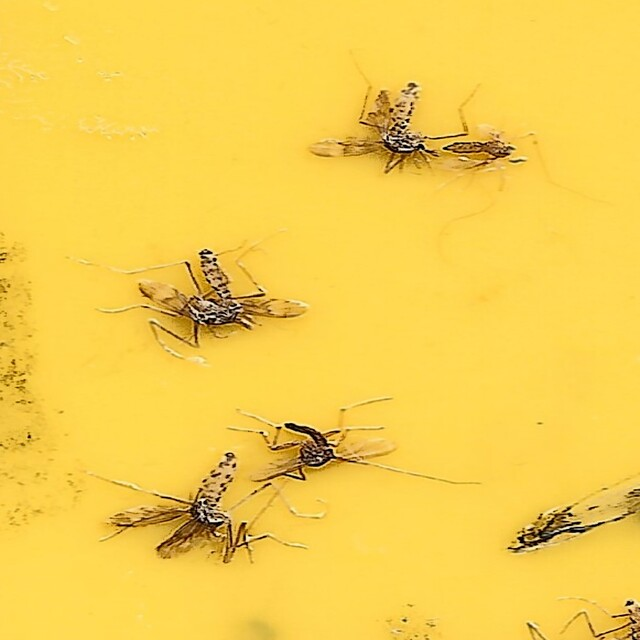Nematocera: (130, 245, 307, 336), (110, 447, 242, 567), (310, 73, 437, 175), (252, 417, 402, 483), (441, 129, 530, 175)
